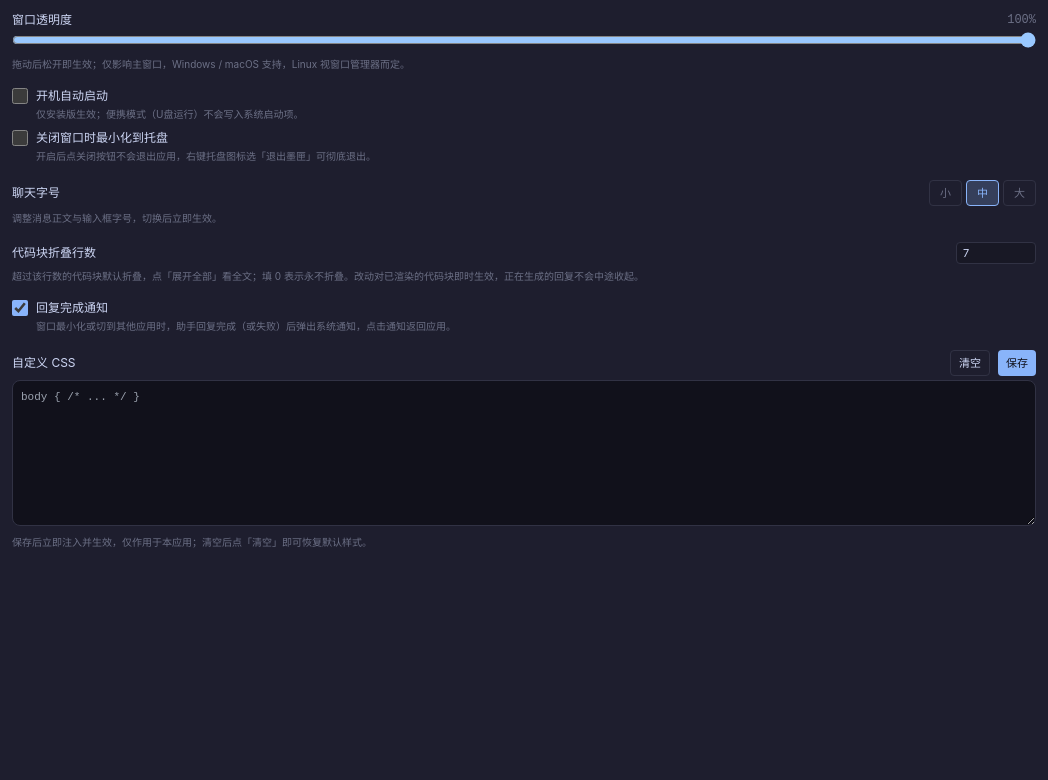
Scenario: 外观面板 — 代码块折叠阈值 › 持久化失败要连全局阈值一起回滚，并把原因显示出来
Expected: the text "代码块折叠行数" is shown, left=12, top=245, right=96, bottom=261
Replace the text in the number field with id "ui-code-collapse-lines" with "40" at {"x": 996, "y": 253}, box left=956, top=242, right=1036, bottom=264
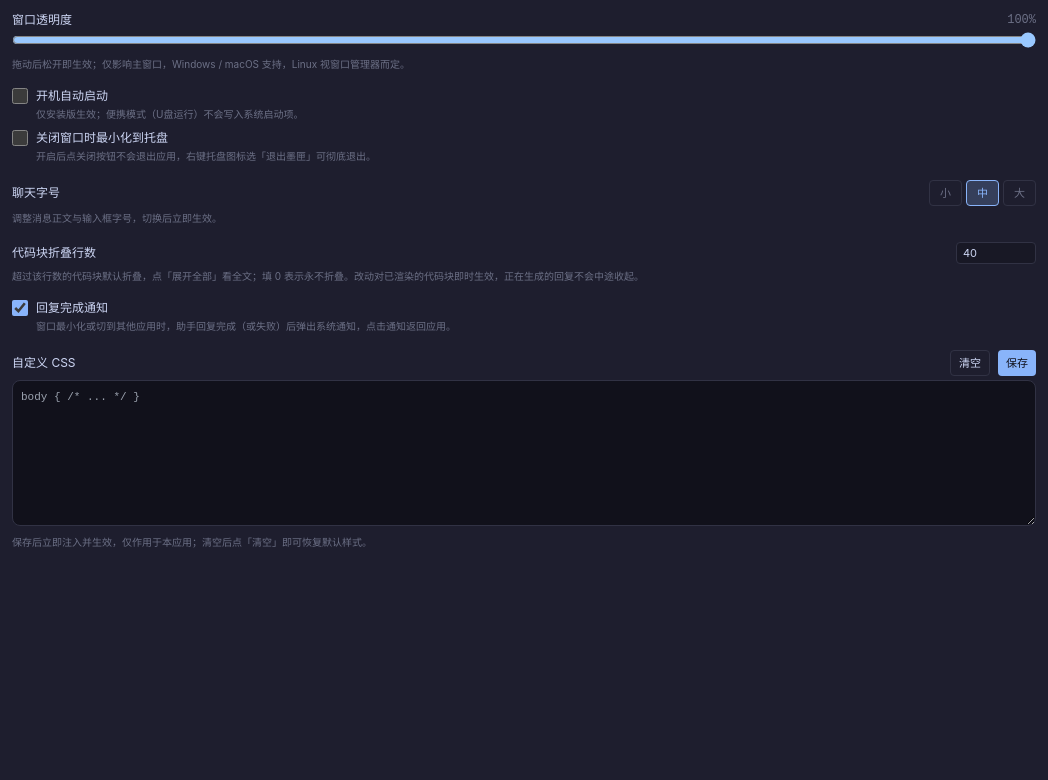
Leave the number field with id "ui-code-collapse-lines", box left=956, top=242, right=1036, bottom=264
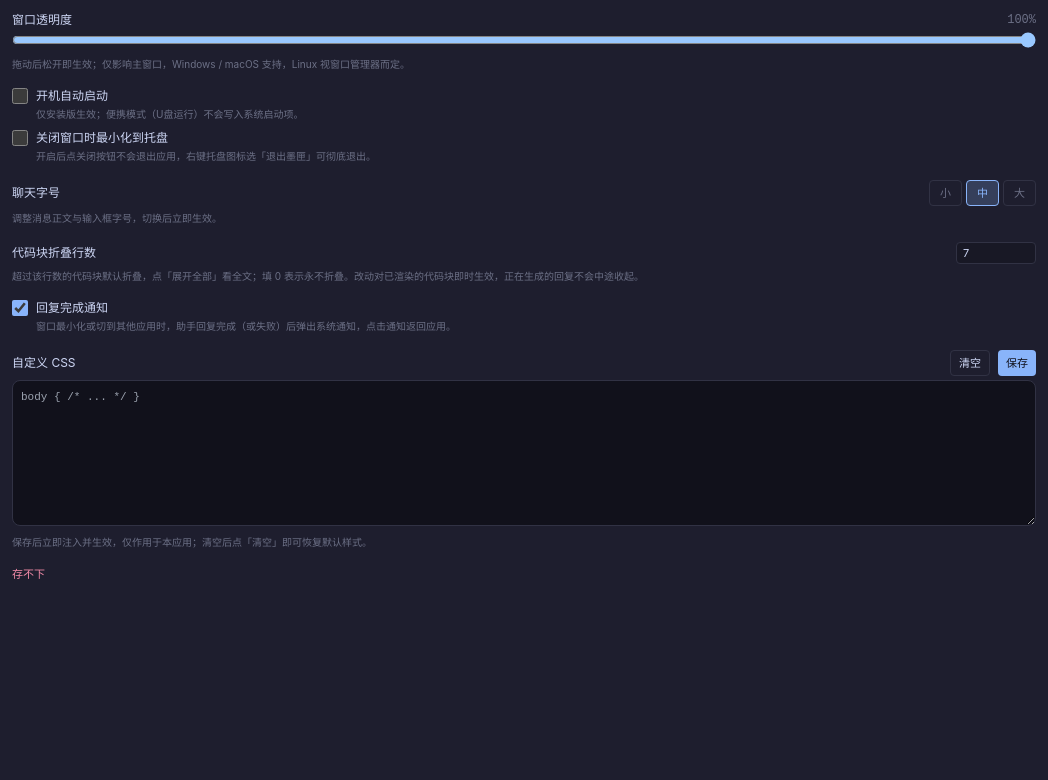
Result: the text "存不下" is shown at left=12, top=567, right=45, bottom=581
Result: the number field with id "ui-code-collapse-lines" holds "7" at left=956, top=242, right=1036, bottom=264
